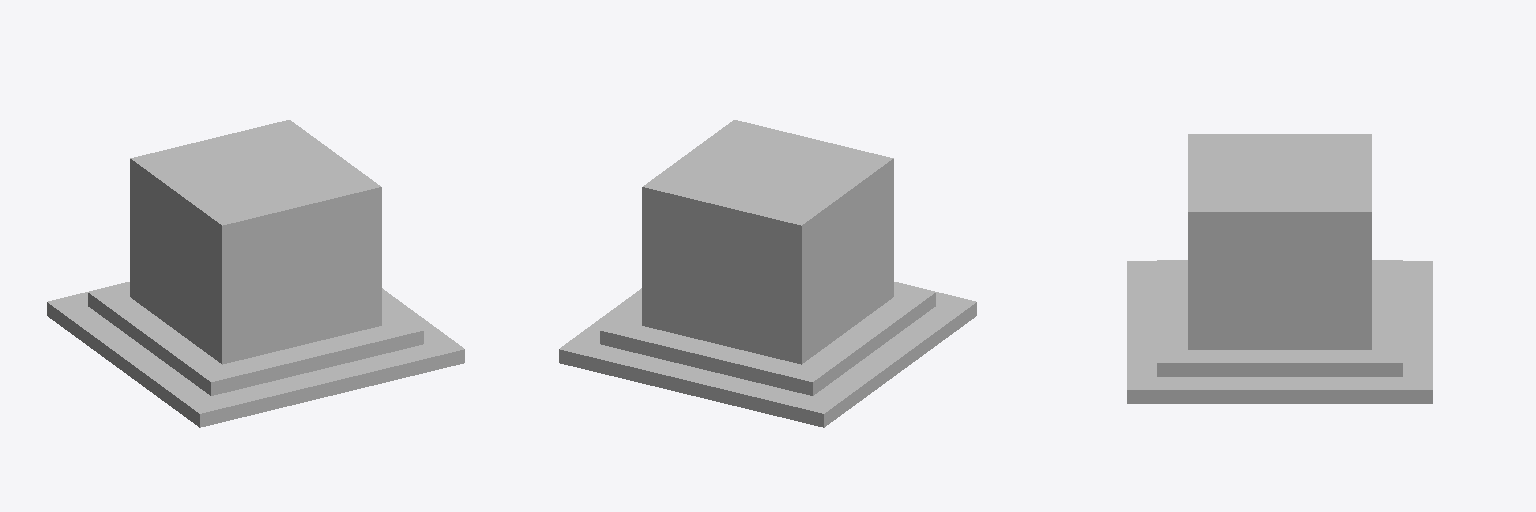
File: BoxCase.obj
3 views of the same model, side by side, from view 1: azimuth 30°, elevation 25°; view 2: azimuth 150°, elevation 25°; view 3: azimuth 270°, elevation 25° (orthographic).
Visible parts, largest first — view 1: Body1; view 2: Body1; view 3: Body1.
Boxes of the visible parts, <box> form: Body1: <box>47,120,464,427</box>; Body1: <box>559,120,976,427</box>; Body1: <box>1127,134,1432,403</box>.
Bounding box in the file's own units: 10 × 6 × 10.